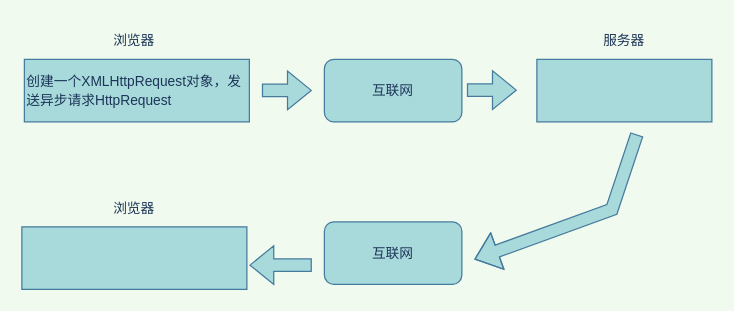
Image size: 734x311. Some labels were removed from this diagram. The shapes that lost their labels are listed below. From the top down, each one's centre as x and y in pixels, then its label:
At pixel 624 90: "接收HttpRequest请求，返回请求数据".
At pixel 134 257: "接收返回数据，用JavaScript操作DOM更新页面".
